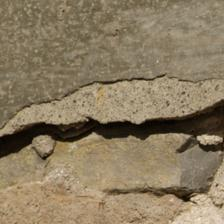Crack: (3, 40, 221, 119)
